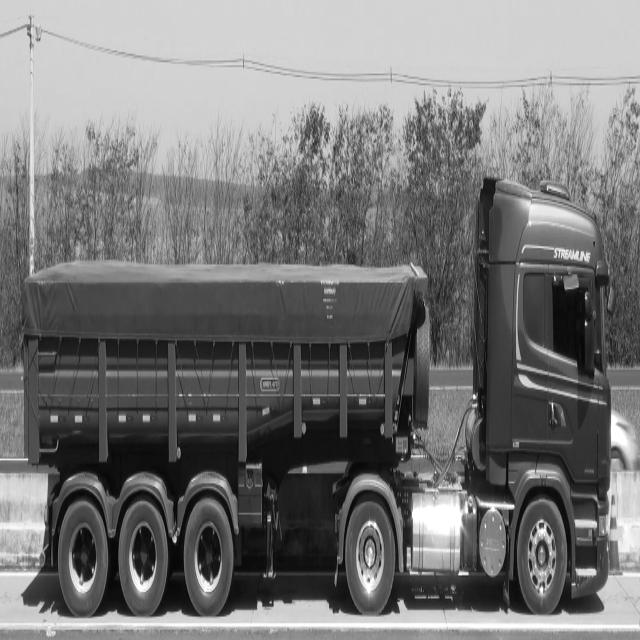Truck: (22, 179, 612, 617)
